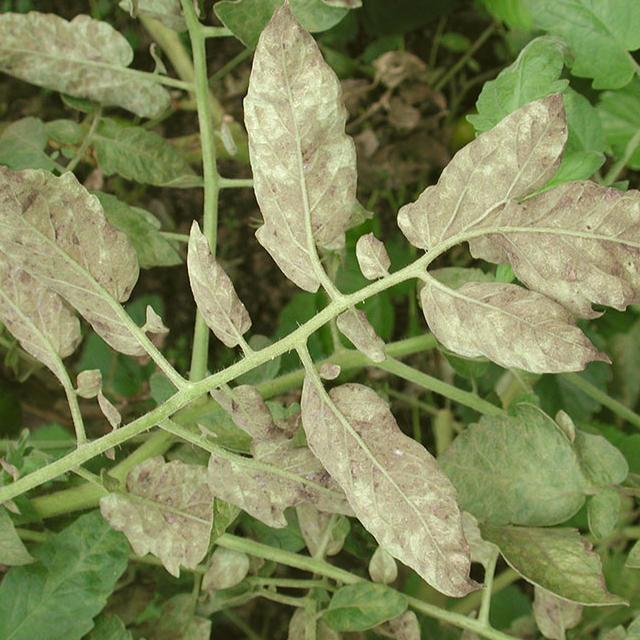Tomato mold leaf: (440, 400, 614, 519), (0, 520, 127, 640), (619, 557, 640, 640), (623, 485, 640, 573)
